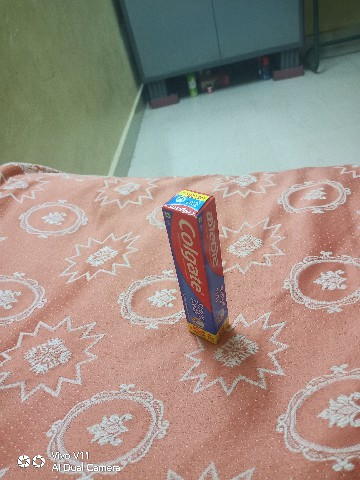colgatetoothpaste small: (148, 183, 255, 348)
